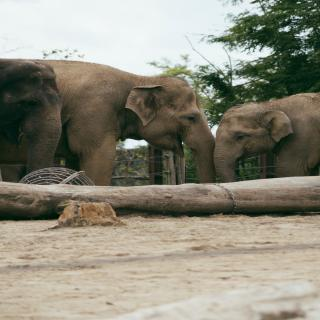Elephant: (0, 51, 217, 186), (212, 87, 320, 180)
